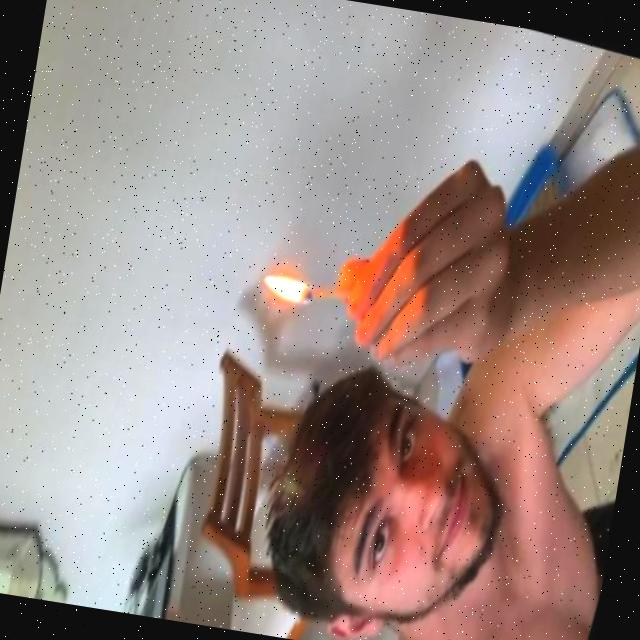fire: (254, 262, 318, 309)
